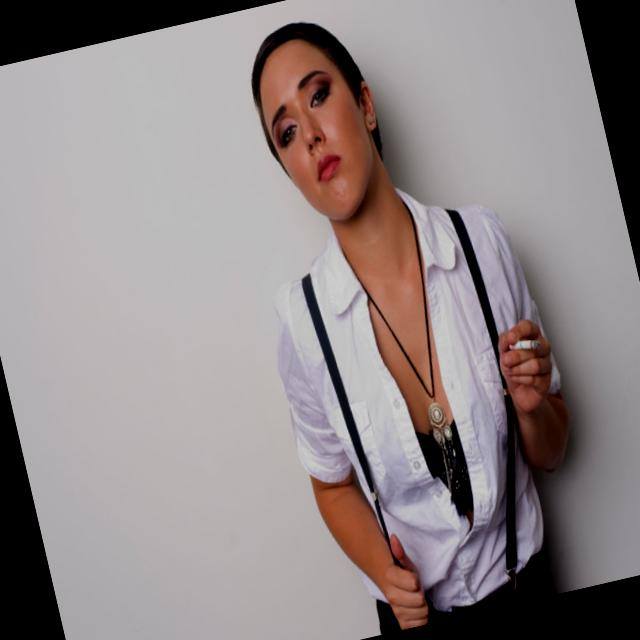smoke: (504, 321, 544, 360)
